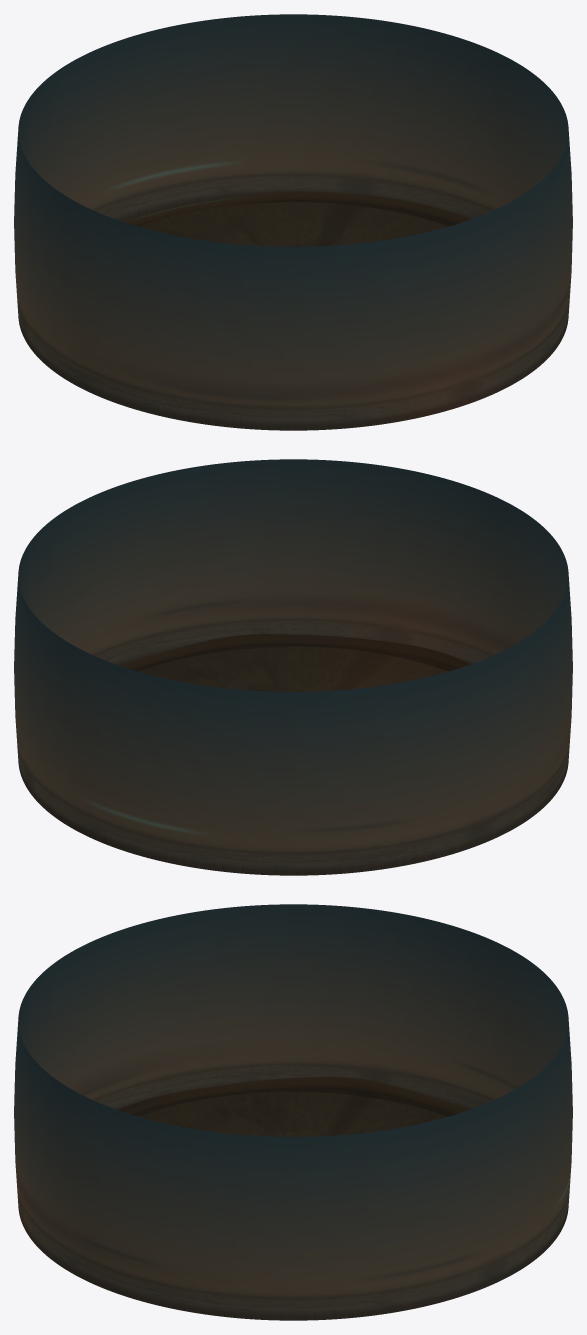
Rendered from glow-mesa-panorama.glb.
3 views of the same model, one above another, from view 1: azimuth 30°, elevation 25°; view 2: azimuth 150°, elevation 25°; view 3: azimuth 270°, elevation 25° (orthographic).
Visible parts, largest first — view 1: GlowMesaPanorama; view 2: GlowMesaPanorama; view 3: GlowMesaPanorama.
Boxes of the visible parts, x1,y1,x2,y2 form: GlowMesaPanorama: [14, 14, 572, 430]; GlowMesaPanorama: [14, 459, 572, 875]; GlowMesaPanorama: [14, 904, 572, 1320].
Size of the model in its own units: 386 by 140 by 386.
1 material, 1 textured.
